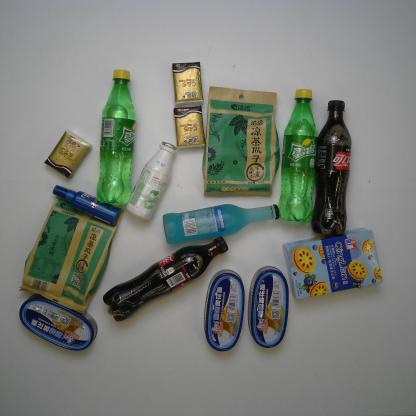Alcohol: (161, 203, 282, 245)
Canned Food: (16, 294, 102, 351), (248, 265, 290, 349), (204, 270, 245, 351)
Dessert: (282, 229, 384, 299)
Dried Food: (20, 196, 125, 316), (199, 86, 282, 199)
Drink: (103, 236, 228, 322), (95, 69, 139, 207), (278, 88, 322, 225), (312, 97, 352, 236)
Milk: (126, 139, 178, 222)
Personal Hygiene: (51, 182, 120, 225)
Tissue: (43, 129, 92, 179), (170, 59, 206, 102), (173, 106, 207, 148)
